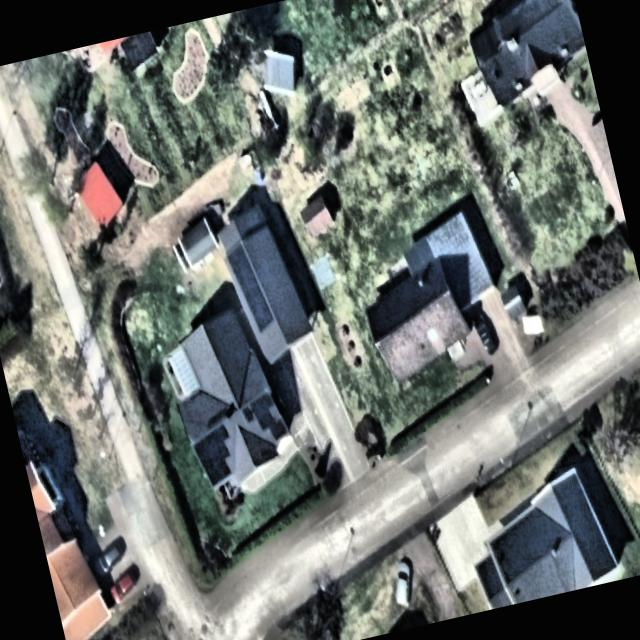roof_pv: (222, 238, 277, 339), (191, 420, 241, 490), (237, 389, 287, 448)
